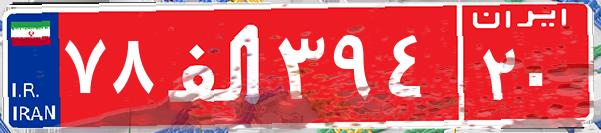0: (525, 38, 570, 115)
2: (475, 38, 525, 113)
3: (273, 28, 330, 110)
4: (385, 28, 445, 110)
7: (57, 26, 110, 107)
8: (110, 28, 158, 105)
9: (330, 28, 385, 110)
الف: (158, 15, 273, 115)
